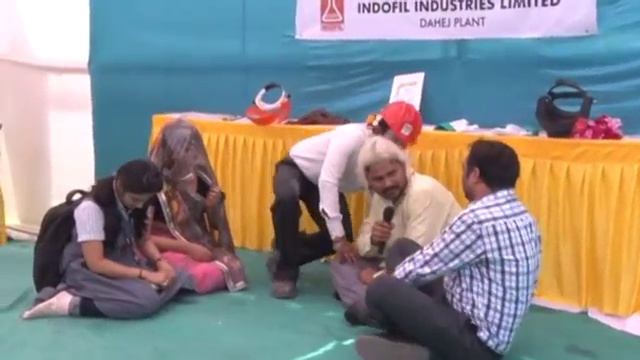helmet: (384, 105, 424, 137)
helmet_off: (460, 138, 521, 206), (106, 161, 166, 219), (152, 124, 206, 187), (357, 143, 413, 201)
helmet_on: (371, 103, 424, 139)
person: (364, 140, 540, 357), (264, 93, 423, 300), (20, 165, 184, 321), (327, 144, 463, 317), (142, 115, 237, 297)
